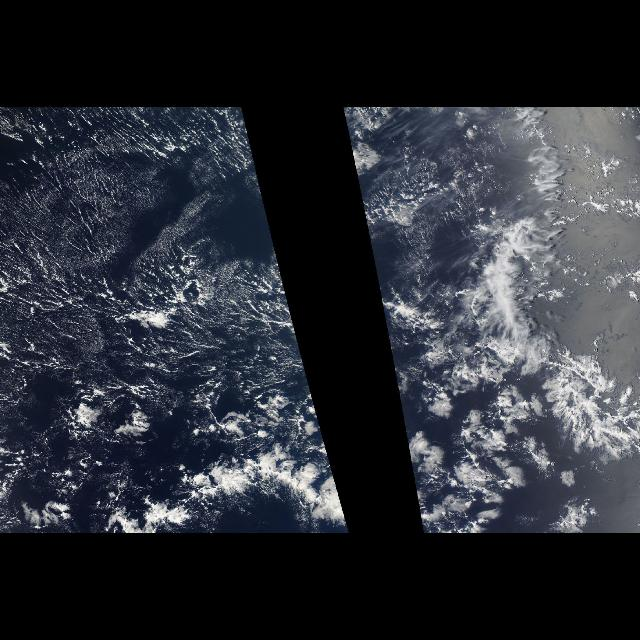Sugar: (5, 112, 237, 318)
